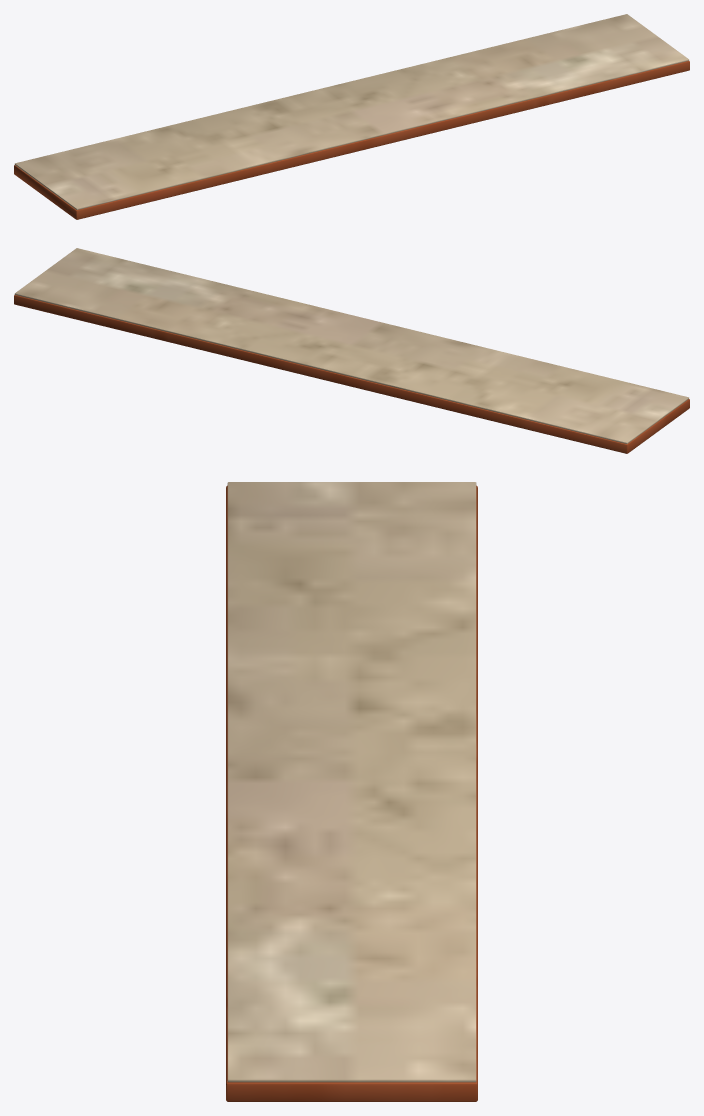
The model's file is PIS-ROD-001_lod1.glb.
The picture shows the model from 3 angles, top to bottom: view 1: azimuth 30°, elevation 25°; view 2: azimuth 150°, elevation 25°; view 3: azimuth 270°, elevation 25°; orthographic projection. The views are drawn at different scales.
Visible parts, largest first — view 1: PIS-ROD-001_face, PIS-ROD-001_corpo; view 2: PIS-ROD-001_face, PIS-ROD-001_corpo; view 3: PIS-ROD-001_face, PIS-ROD-001_corpo.
Part boxes in pixels (x1,y1,x2,y2): PIS-ROD-001_face: (14, 14, 688, 209); PIS-ROD-001_corpo: (14, 61, 689, 219); PIS-ROD-001_face: (14, 248, 688, 443); PIS-ROD-001_corpo: (14, 295, 689, 453); PIS-ROD-001_face: (227, 482, 476, 1082); PIS-ROD-001_corpo: (226, 485, 477, 1101).
Bounding box in the file's own units: 0.45 × 0.00801 × 0.08.
2 materials, 2 textured.
